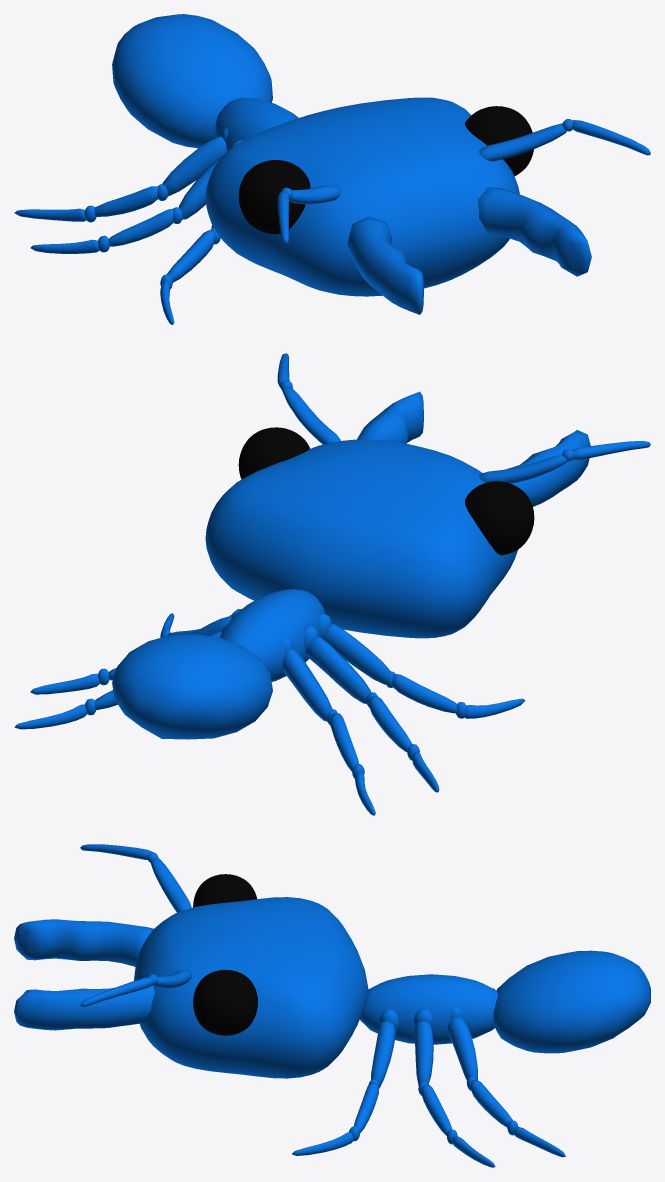
The model's file is Minion bleu.fbx.
3 renders of one model, top to bottom at view 1: azimuth 30°, elevation 25°; view 2: azimuth 150°, elevation 25°; view 3: azimuth 270°, elevation 25°, orthographic. The views are drawn at different scales.
Visible parts, largest first — view 1: Minion bleu; view 2: Minion bleu; view 3: Minion bleu.
Boxes of the visible parts, x1,y1,x2,y2 form: Minion bleu: (14,14,650,324); Minion bleu: (14,353,650,815); Minion bleu: (14,844,650,1167).
Bounding box in the file's own units: 1.43 × 0.6348 × 2.18.
